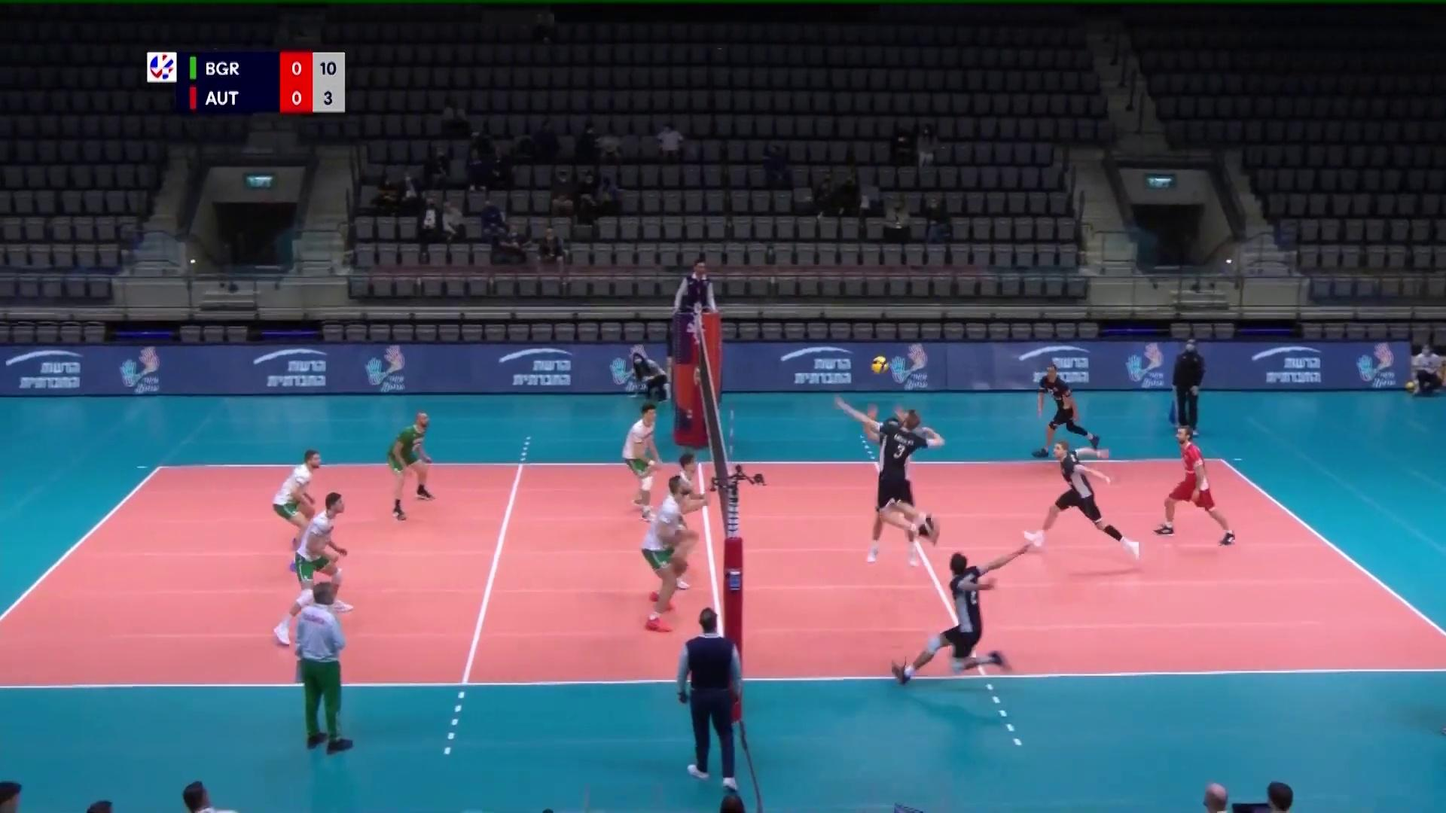ball: (870, 352, 895, 375)
